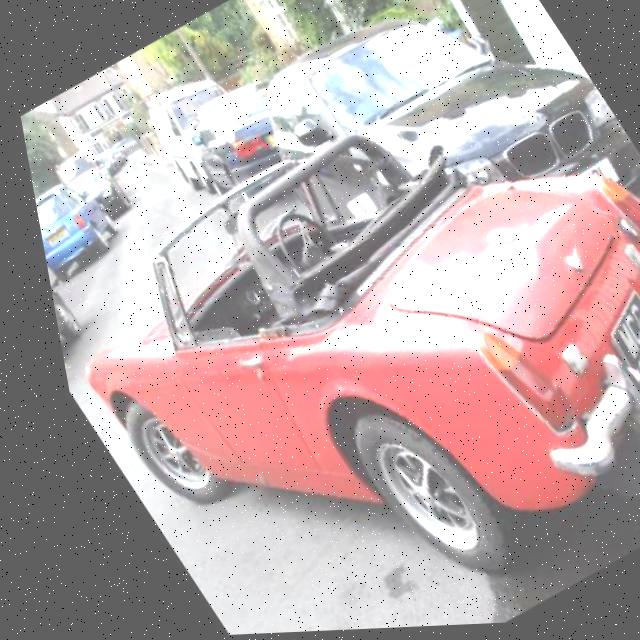license_plate: (577, 294, 640, 412), (570, 162, 616, 200), (34, 225, 64, 248), (258, 135, 280, 155)
